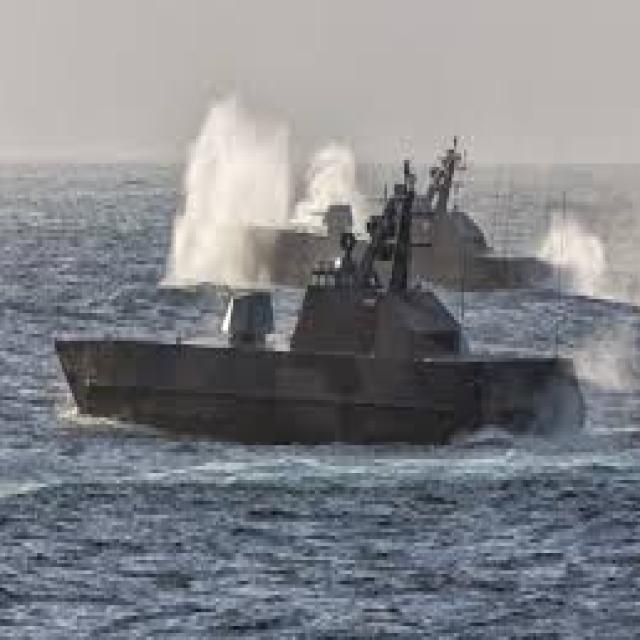navalvessels: (57, 248, 577, 476), (220, 156, 604, 305)
